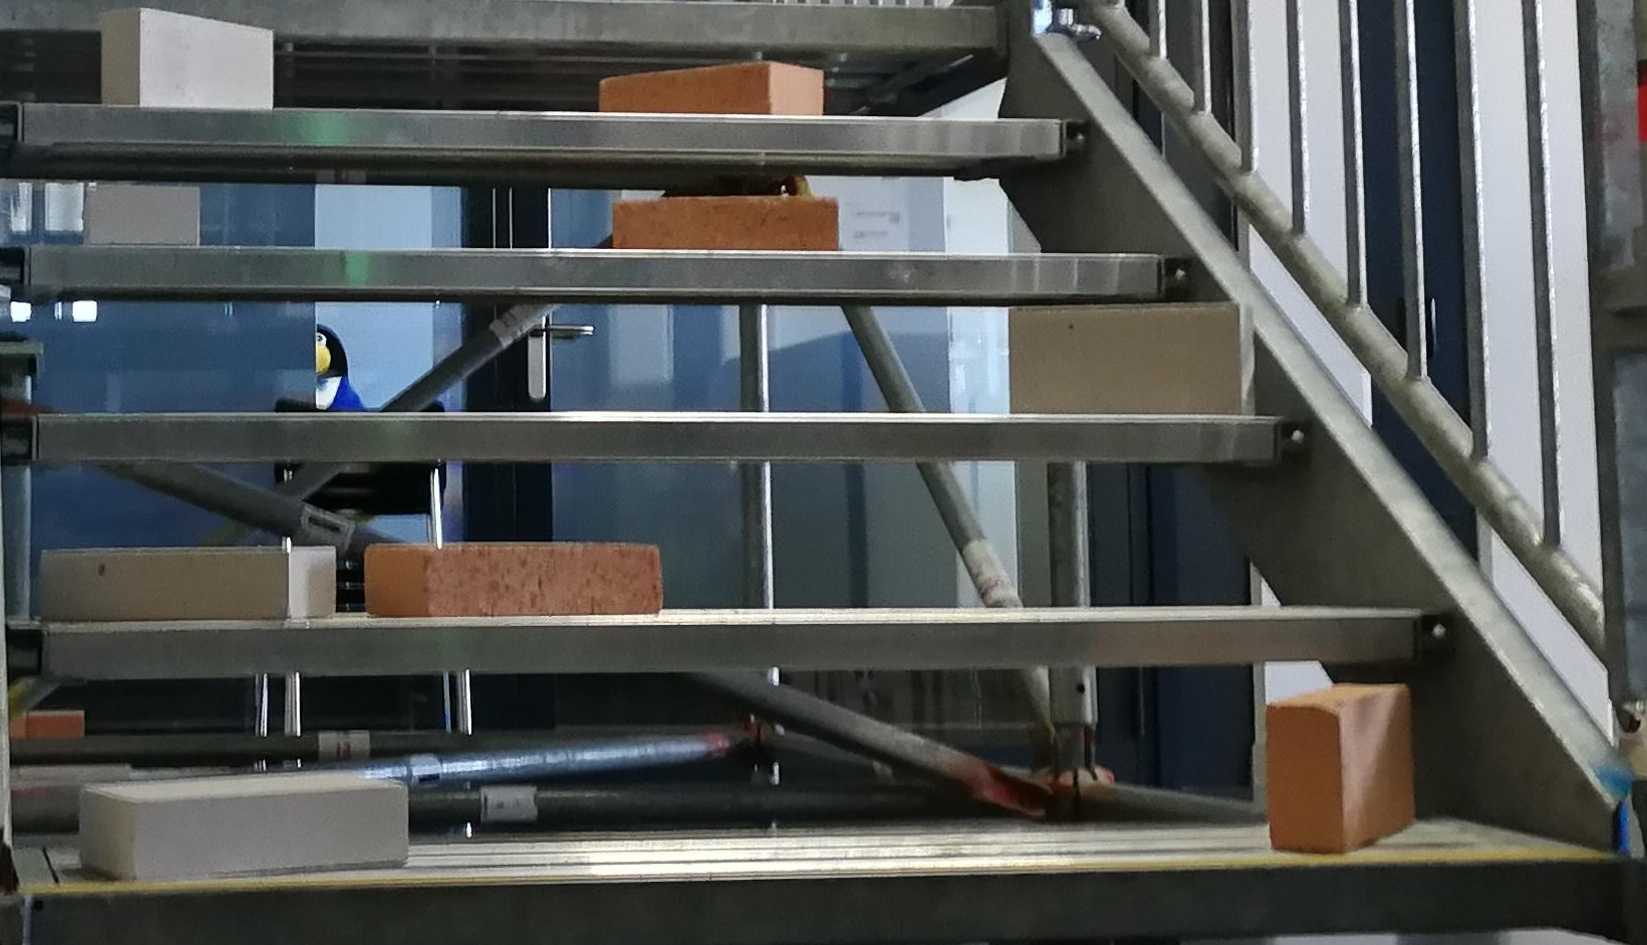brick: (80, 773, 405, 871), (1009, 307, 1253, 414), (1267, 682, 1412, 849), (43, 547, 333, 620), (368, 545, 659, 616), (100, 10, 271, 105), (596, 59, 822, 114), (610, 197, 838, 251)
edge: (23, 856, 1609, 938), (8, 605, 1457, 669), (8, 411, 1309, 466), (1, 244, 1195, 303), (3, 104, 1095, 160)
